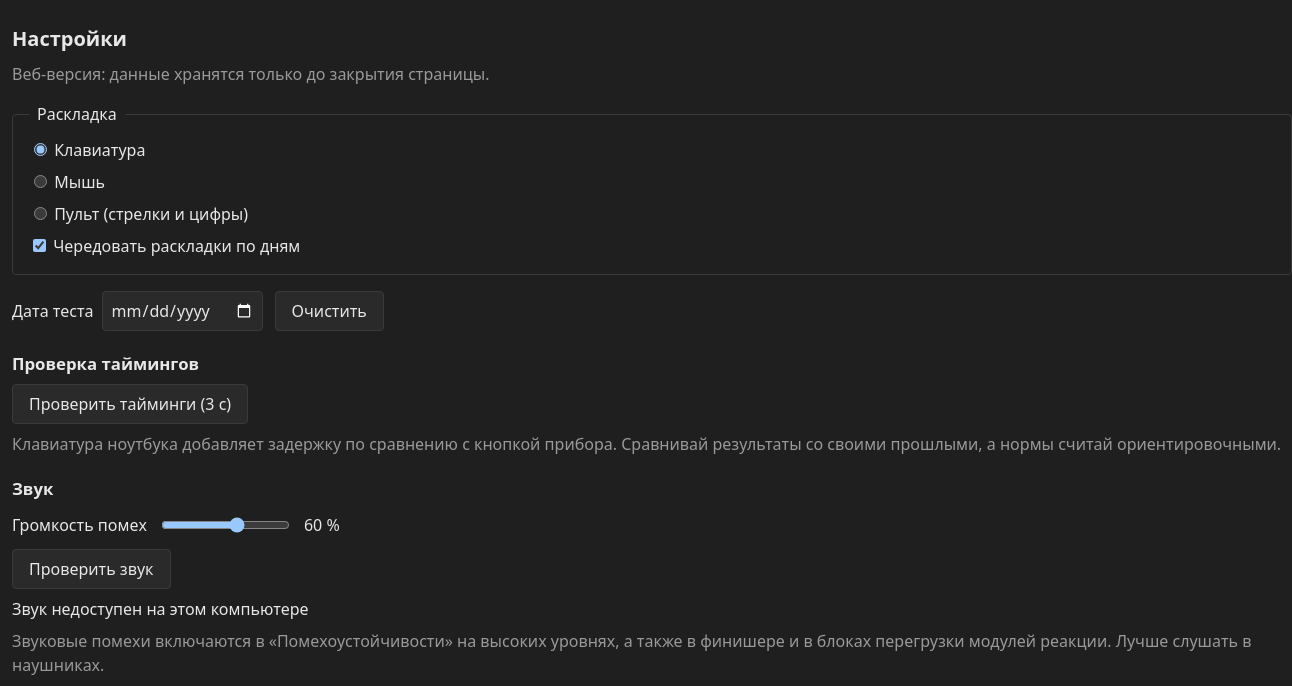
it: Settings timing self-check › warns on battery power
Click the button "Проверить тайминги (3 с)": x=130, y=404 [12,384,248,424]
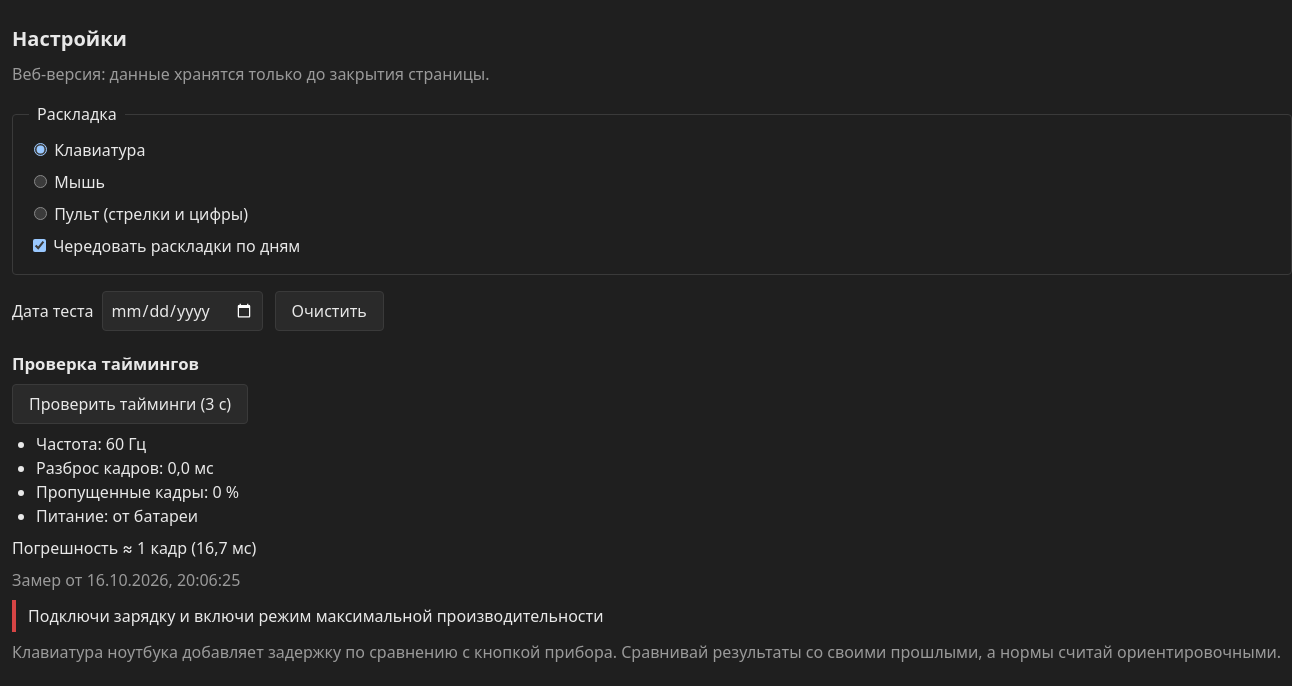
Expected: the list item "Питание: от батареи" is shown, [36,505,198,527]
Expected: the text "Подключи зарядку и включи режим максимальной производительности" is shown, [12,600,1291,632]
